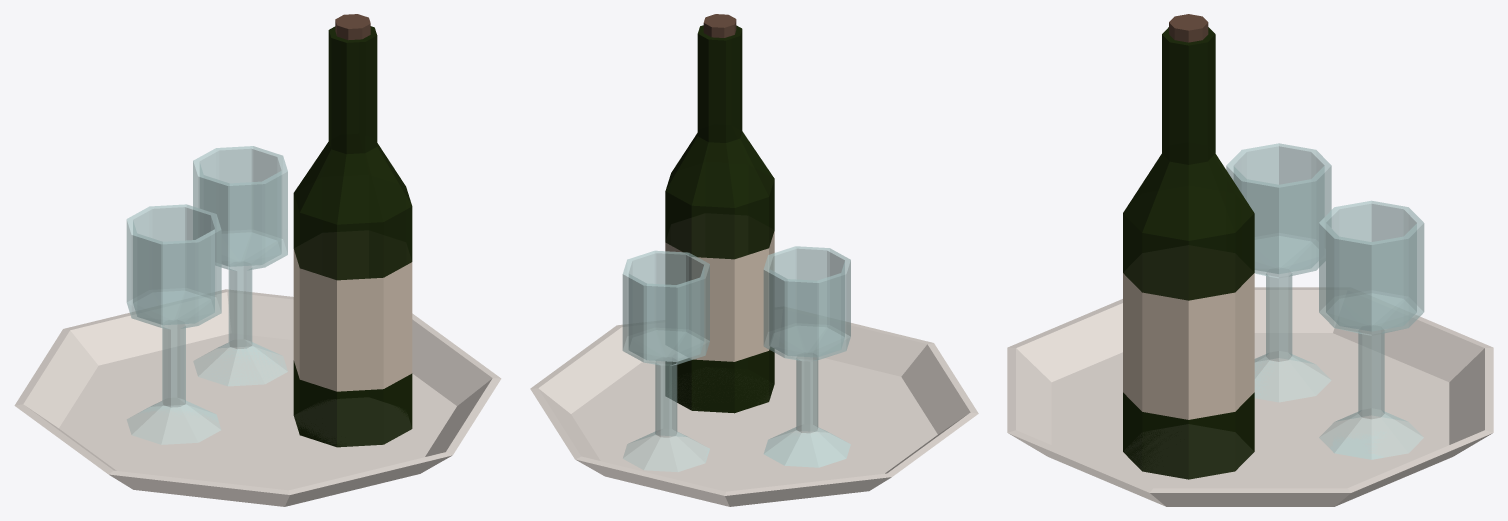
The picture shows the model from 3 angles, left to right: view 1: azimuth 30°, elevation 25°; view 2: azimuth 150°, elevation 25°; view 3: azimuth 270°, elevation 25°; orthographic projection. The views are drawn at different scales.
Parts seen in each view (by area): view 1: Plate_0.8x0.8x0.1_proxy.001_0, Plate_0.8x0.8x0.1_proxy.001_1, Plate_0.8x0.8x0.1_proxy.001_2, Plate_0.8x0.8x0.1_proxy.001_3, Plate_0.8x0.8x0.1_proxy.001_4; view 2: Plate_0.8x0.8x0.1_proxy.001_0, Plate_0.8x0.8x0.1_proxy.001_1, Plate_0.8x0.8x0.1_proxy.001_2, Plate_0.8x0.8x0.1_proxy.001_3, Plate_0.8x0.8x0.1_proxy.001_4; view 3: Plate_0.8x0.8x0.1_proxy.001_0, Plate_0.8x0.8x0.1_proxy.001_1, Plate_0.8x0.8x0.1_proxy.001_2, Plate_0.8x0.8x0.1_proxy.001_3, Plate_0.8x0.8x0.1_proxy.001_4.
Boxes of the visible parts, <box> form: Plate_0.8x0.8x0.1_proxy.001_0: <box>14,289,501,506</box>; Plate_0.8x0.8x0.1_proxy.001_1: <box>126,146,287,444</box>; Plate_0.8x0.8x0.1_proxy.001_2: <box>293,26,412,447</box>; Plate_0.8x0.8x0.1_proxy.001_3: <box>293,249,412,391</box>; Plate_0.8x0.8x0.1_proxy.001_4: <box>335,14,370,40</box>; Plate_0.8x0.8x0.1_proxy.001_0: <box>530,321,978,506</box>; Plate_0.8x0.8x0.1_proxy.001_1: <box>622,246,850,471</box>; Plate_0.8x0.8x0.1_proxy.001_2: <box>665,25,774,413</box>; Plate_0.8x0.8x0.1_proxy.001_3: <box>665,231,774,361</box>; Plate_0.8x0.8x0.1_proxy.001_4: <box>703,14,736,37</box>; Plate_0.8x0.8x0.1_proxy.001_0: <box>1007,287,1493,506</box>; Plate_0.8x0.8x0.1_proxy.001_1: <box>1226,143,1424,459</box>; Plate_0.8x0.8x0.1_proxy.001_2: <box>1123,27,1254,479</box>; Plate_0.8x0.8x0.1_proxy.001_3: <box>1123,273,1254,419</box>; Plate_0.8x0.8x0.1_proxy.001_4: <box>1169,14,1208,42</box>.
Size of the model in its own units: 0.5543 by 0.5648 by 0.5543.
